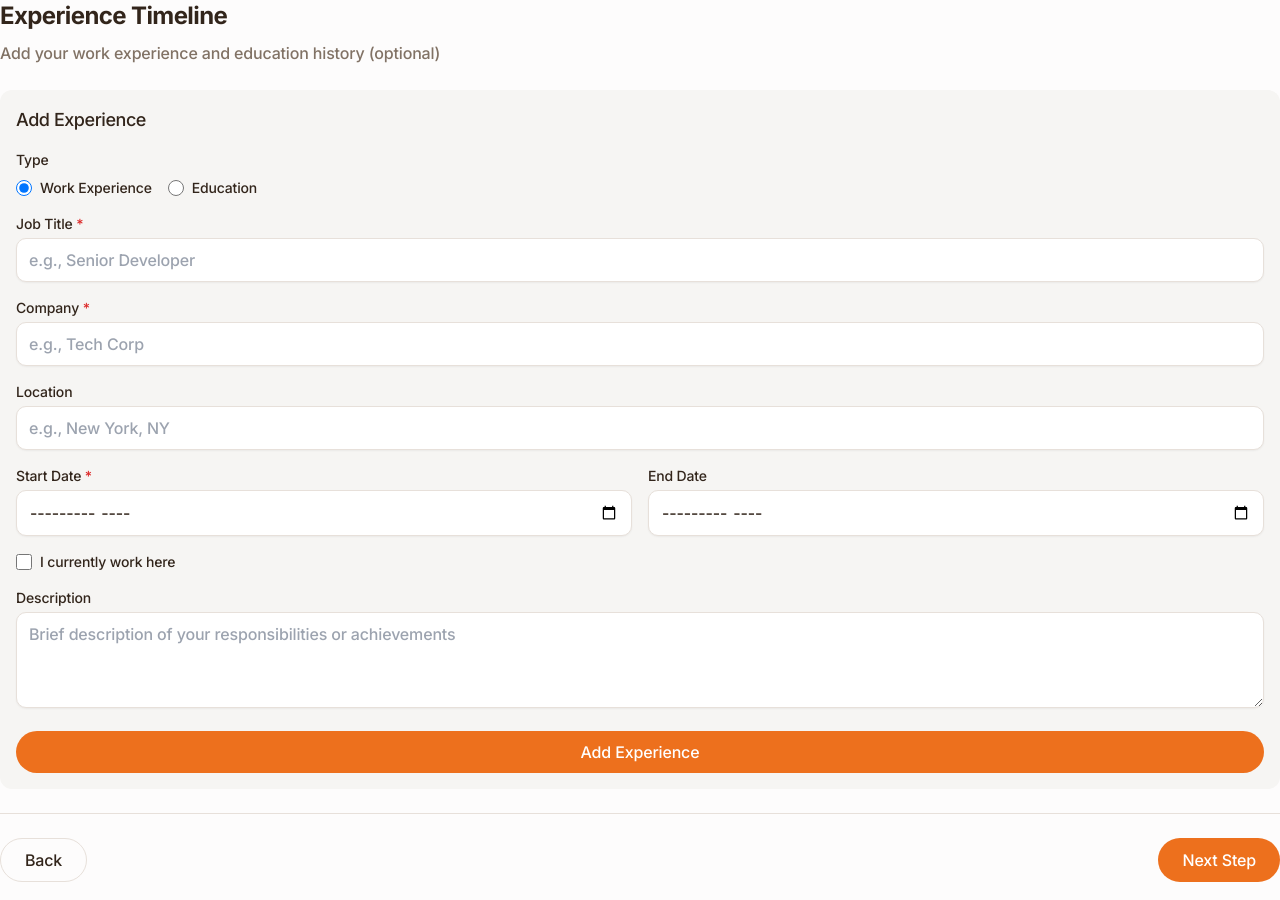
it: Step3ExperienceTimeline › Form Validation › shows error when start date is empty
The image size is (1280, 900).
Type "Software Engineer" into the field labelled "Job Title *" at [640, 260], box [16,238,1264,282]
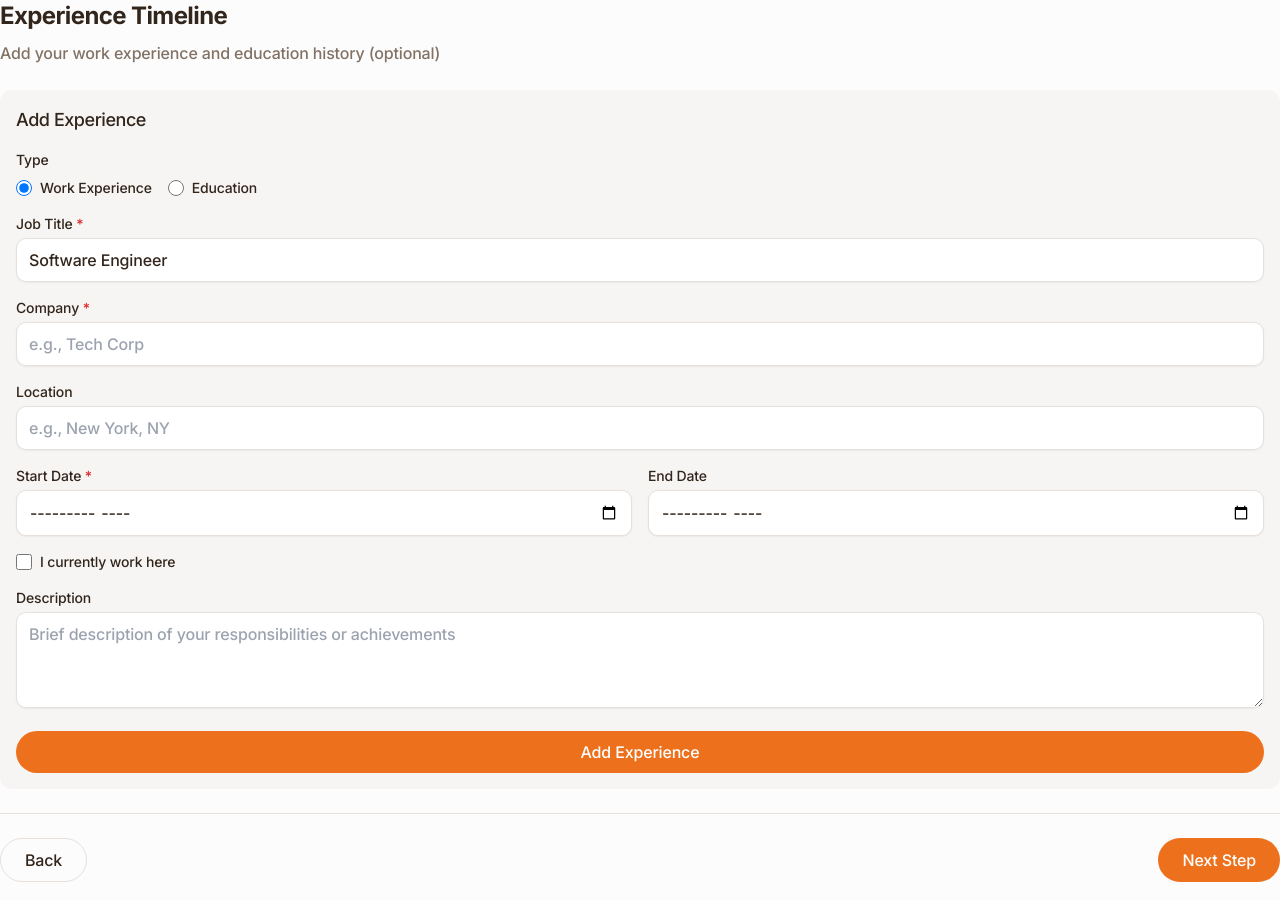
Type "Tech Corp" into the field labelled "Company *" at [640, 344], box [16,322,1264,366]
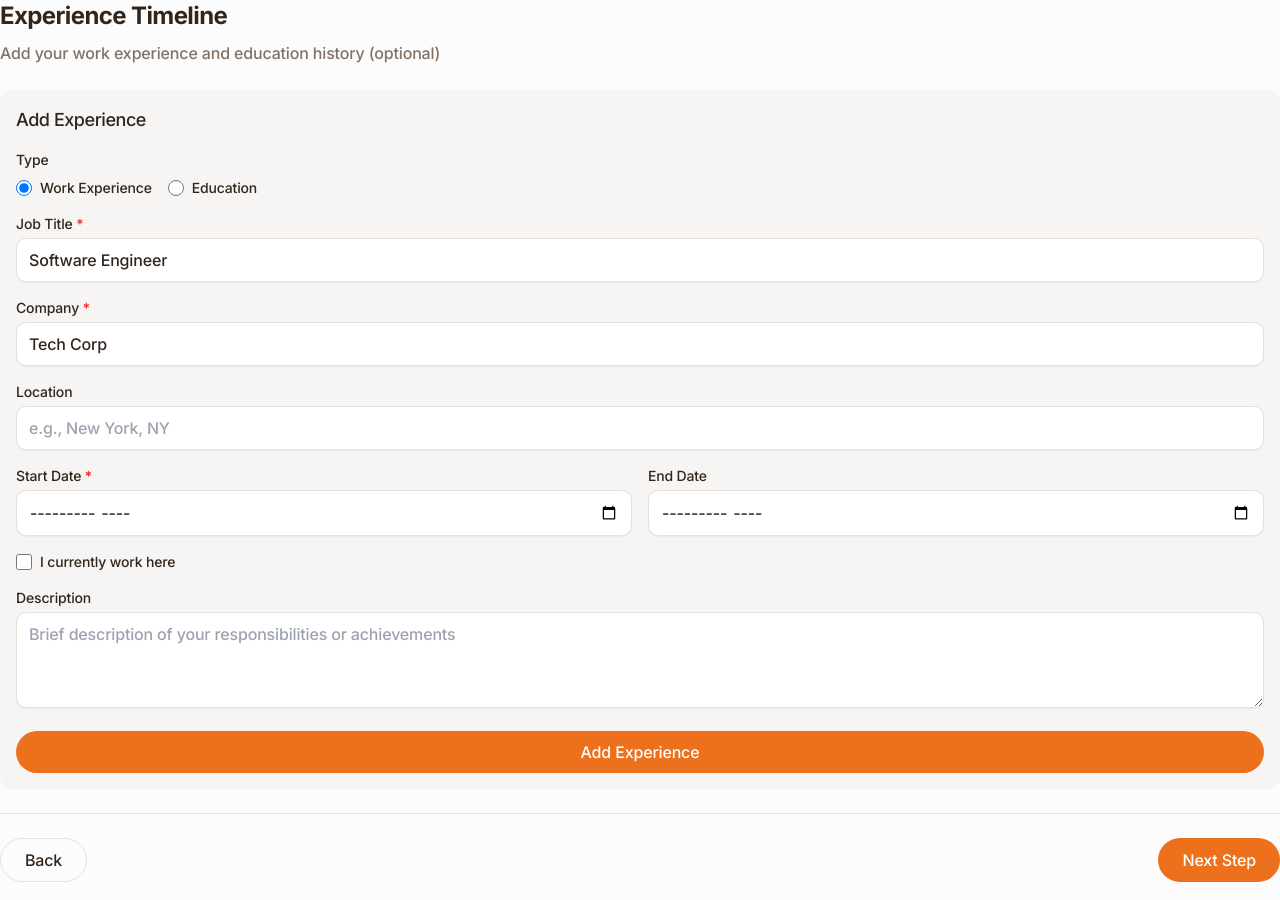
Click the button "Add Experience" at [640, 752], box [16,731,1264,773]
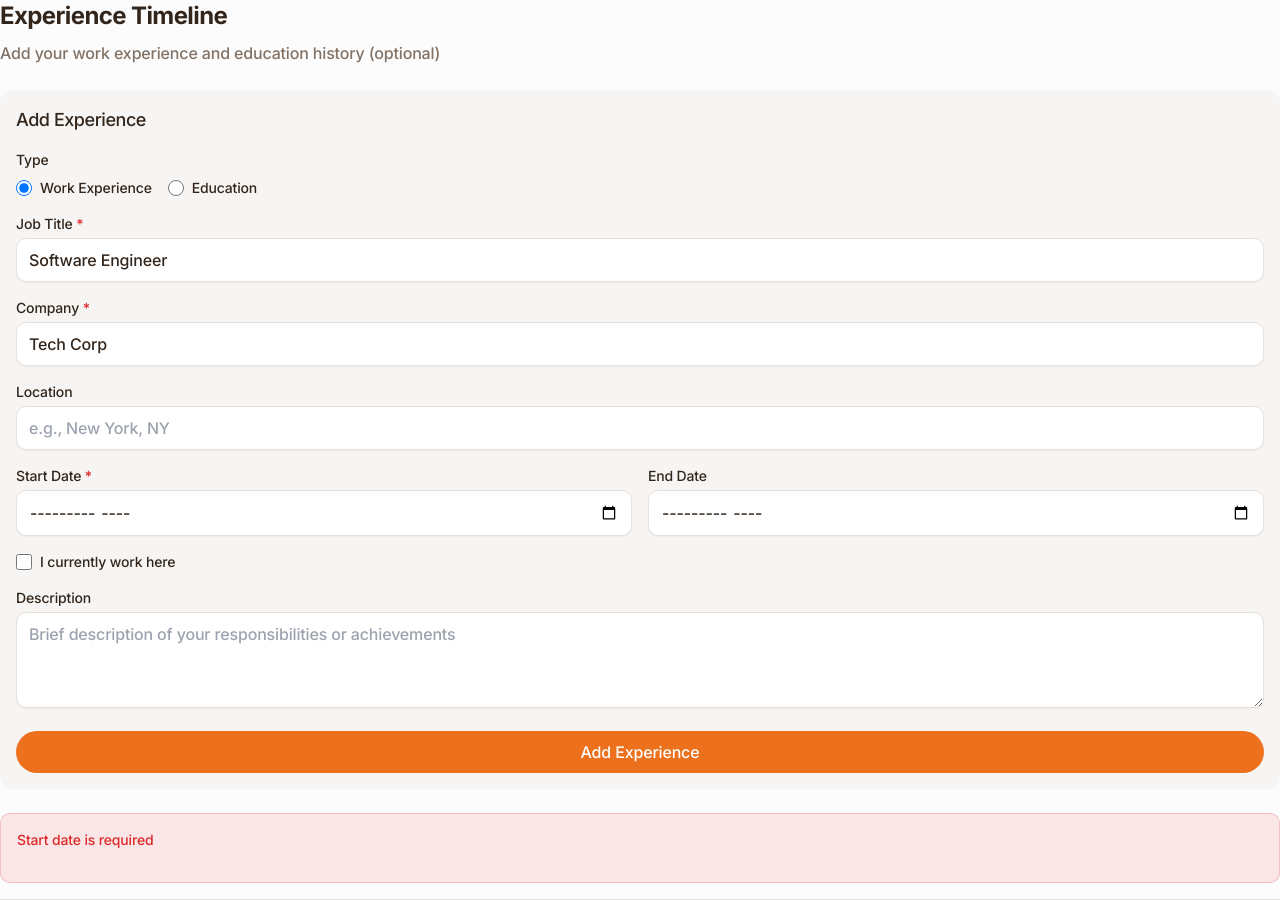
Now the text "Start date is required" is shown, box [17,831,153,848]
